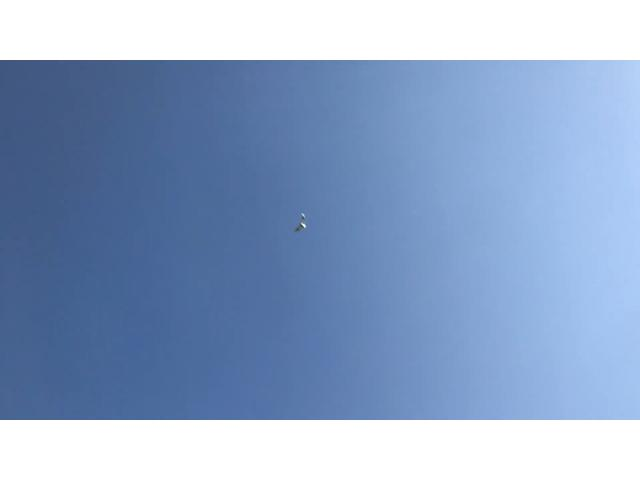Anti-Drone: (274, 204, 330, 244)
